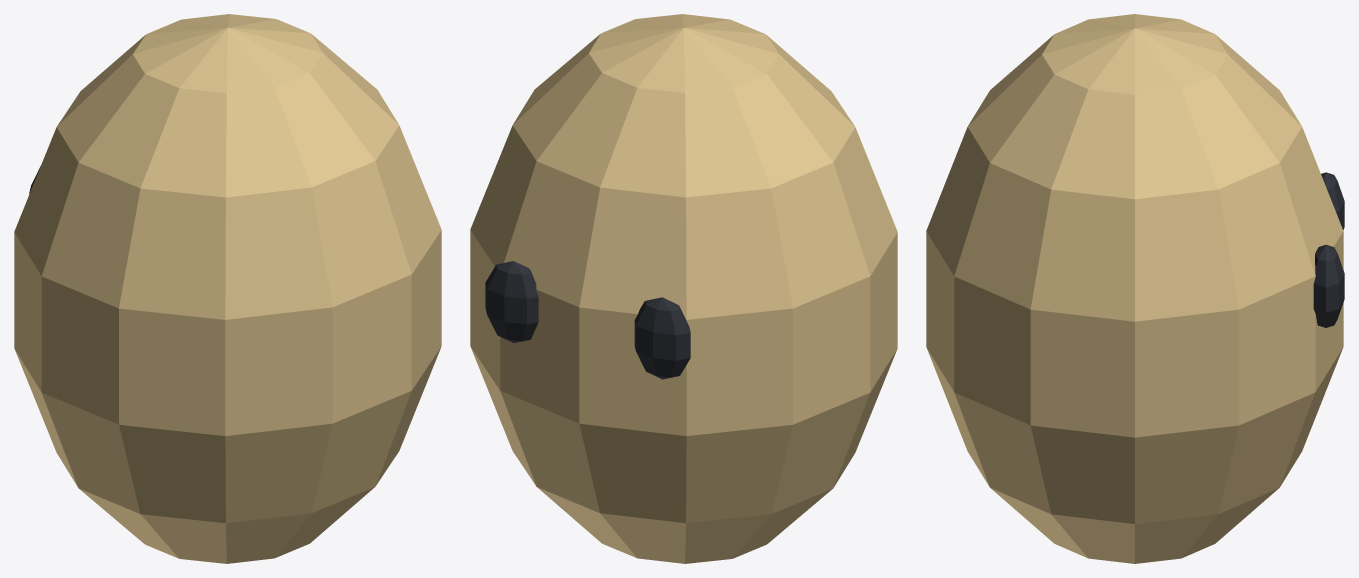
The model's file is gorehulk_a_head.obj.
3 renders of one model, left to right at view 1: azimuth 30°, elevation 25°; view 2: azimuth 150°, elevation 25°; view 3: azimuth 270°, elevation 25°, orthographic.
Visible parts, largest first — view 1: gorehulk_a_head; view 2: gorehulk_a_head; view 3: gorehulk_a_head.
Boxes of the visible parts, x1,y1,x2,y2 form: gorehulk_a_head: (14,14,441,563); gorehulk_a_head: (470,14,897,563); gorehulk_a_head: (926,14,1344,563).
Bounding box in the file's own units: 0.351 × 0.47 × 0.3422.
